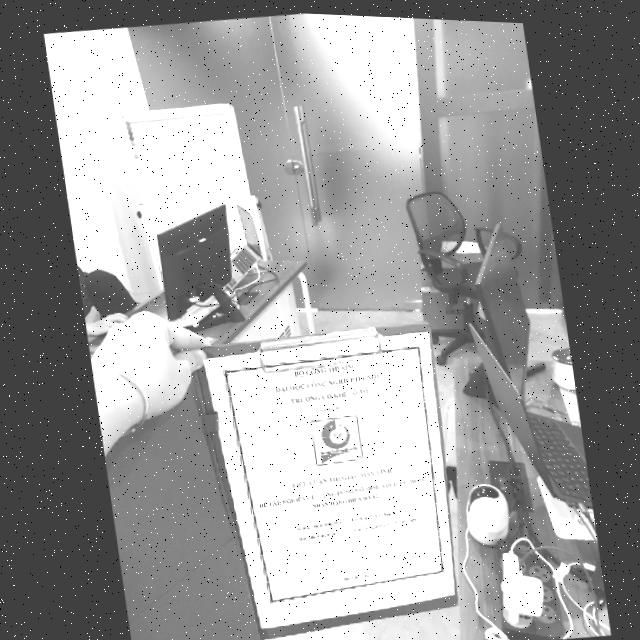document: (203, 331, 455, 629)
